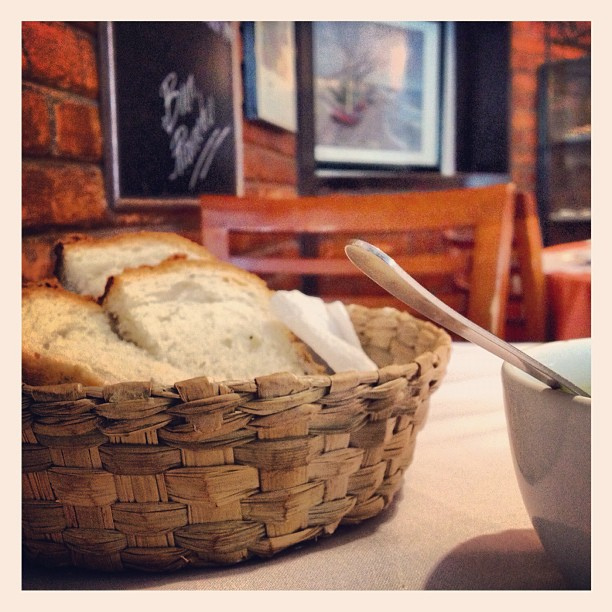slice of bread: (110, 266, 303, 376), (22, 282, 156, 384), (57, 236, 216, 293)
